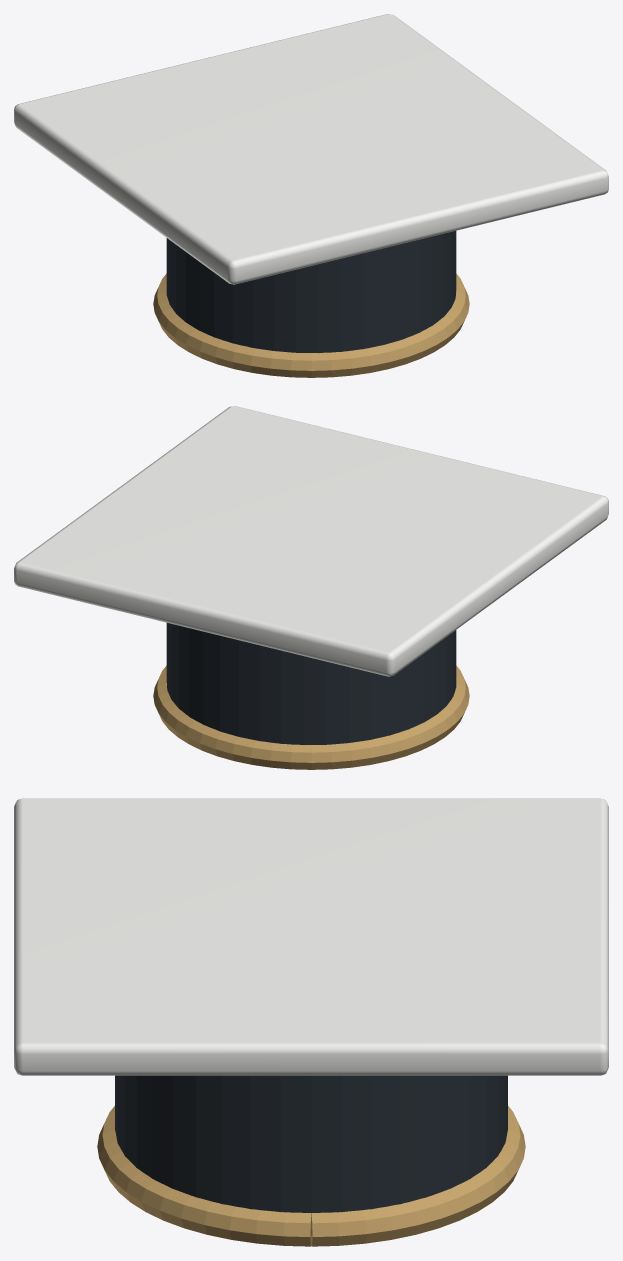
Rendered from recessed-square.glb.
The picture shows the model from 3 angles, top to bottom: view 1: azimuth 30°, elevation 25°; view 2: azimuth 150°, elevation 25°; view 3: azimuth 270°, elevation 25°; orthographic projection. The views are drawn at different scales.
Visible parts, largest first — view 1: recessed-square authored assembly; view 2: recessed-square authored assembly; view 3: recessed-square authored assembly.
Boxes of the visible parts, left/top/right/bottom form: recessed-square authored assembly: left=14, top=14, right=608, bottom=377; recessed-square authored assembly: left=14, top=406, right=608, bottom=769; recessed-square authored assembly: left=14, top=798, right=608, bottom=1246.
Size of the model in its own units: 0.1 by 0.045 by 0.1.
